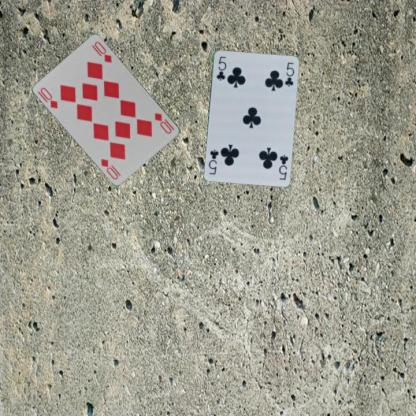10d: (152, 110, 176, 136), (38, 85, 60, 110)
5c: (213, 54, 228, 81), (276, 152, 289, 181)
